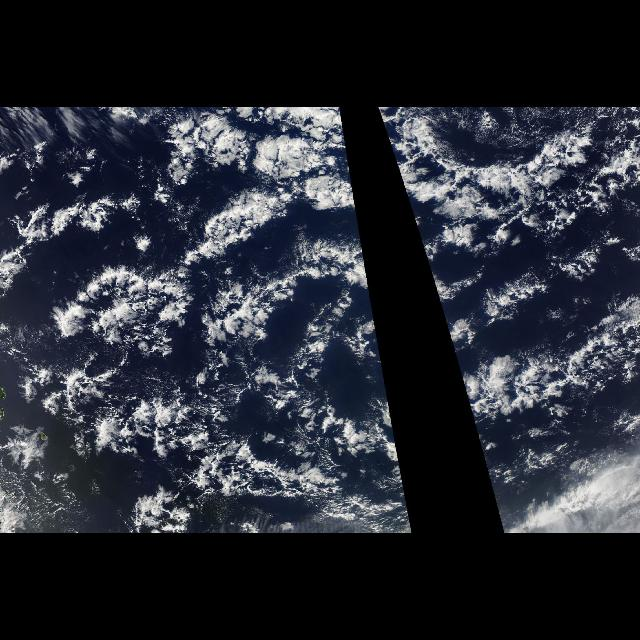Flower: (53, 110, 404, 524), (438, 147, 640, 411), (392, 158, 403, 188)
Gravel: (29, 166, 405, 492), (398, 166, 628, 492)
